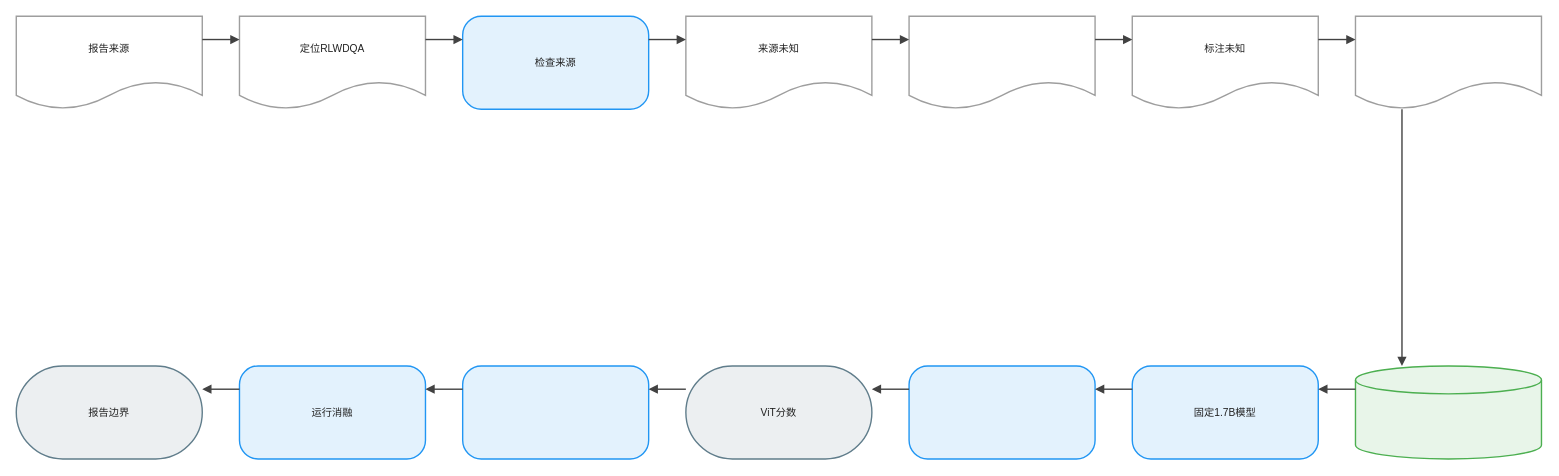
The diagram is 1559 pixels wide and 476 high, and some of its shapes have lost their labels. The centre of each missing label's shape, as x and y in pixels:
DeepStack消融: point (555, 412)
构建未知: point (1001, 62)
比较ViT: point (1001, 412)
规模未知: point (1448, 62)
验证集: point (1448, 412)
